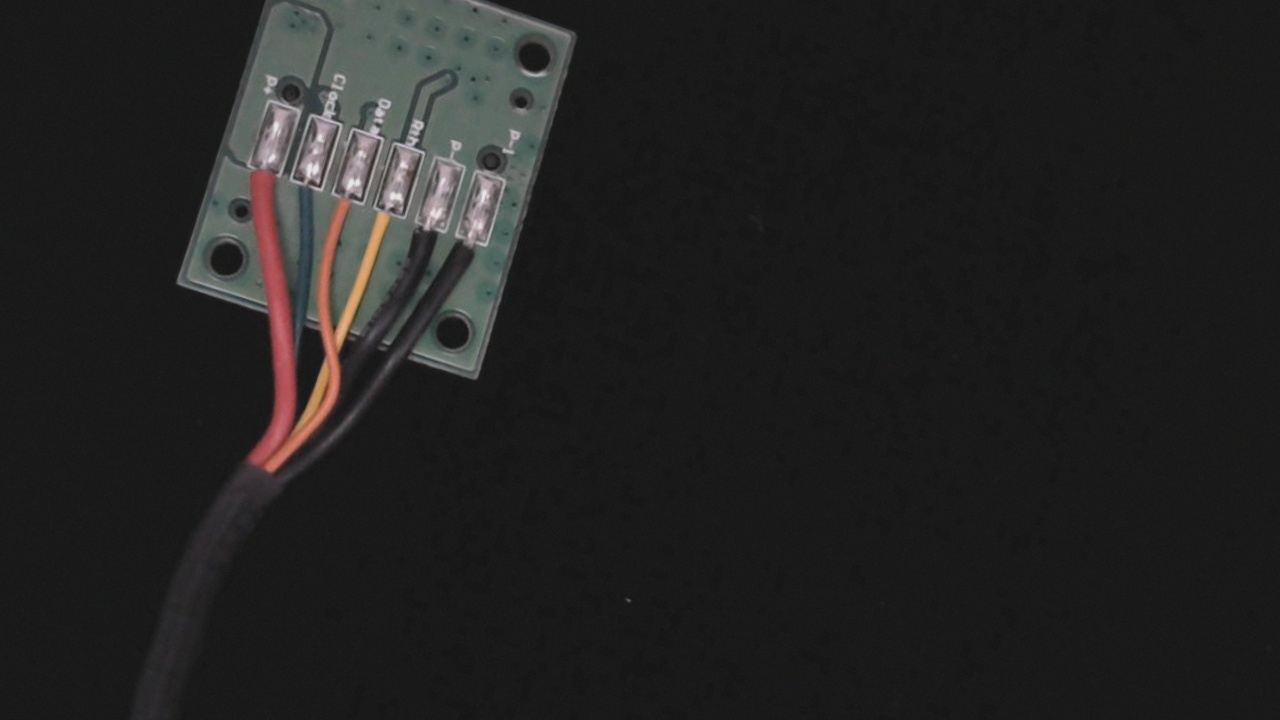Black: (394, 204, 452, 284)
Black1: (438, 217, 496, 300)
Green: (274, 161, 330, 238)
Orange: (314, 174, 371, 249)
Red: (227, 148, 288, 235)
Yellow: (356, 187, 410, 266)
